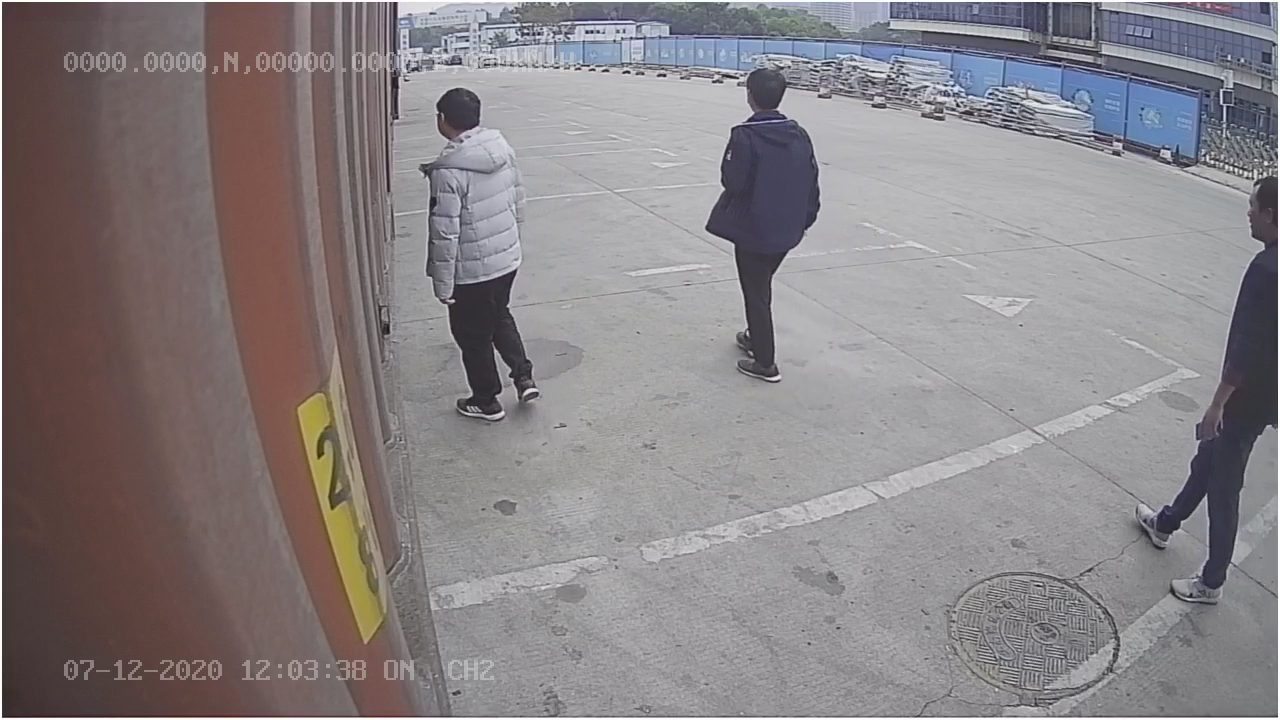person: (423, 82, 545, 419), (702, 61, 822, 390)
